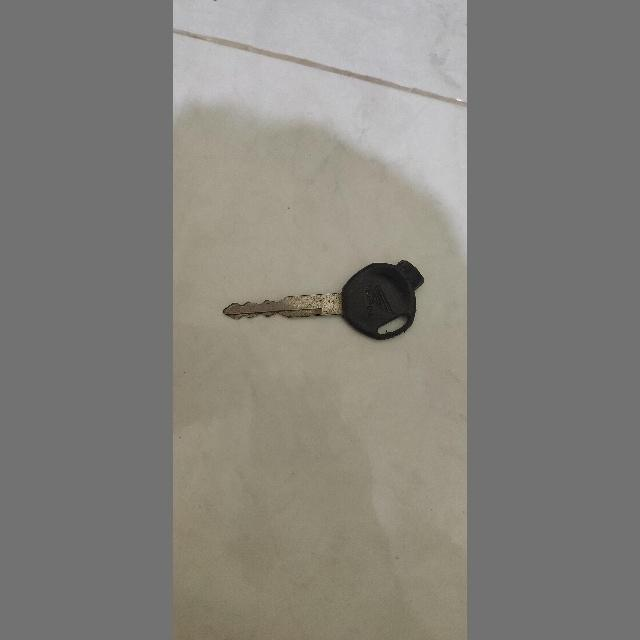Keys: (218, 253, 430, 357)
